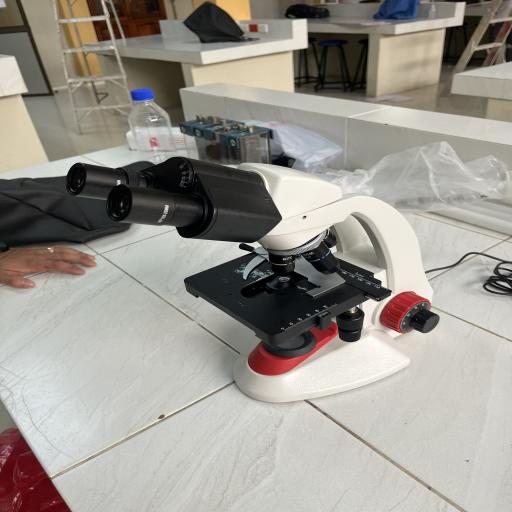Microscopio_Binocular: (57, 142, 455, 414)
